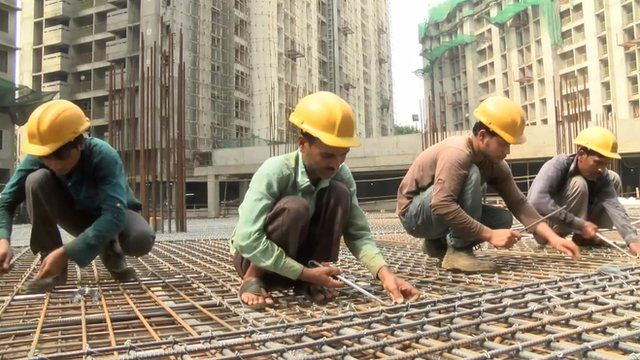NoJacket: (236, 91, 355, 268), (396, 94, 527, 220), (22, 96, 125, 246), (536, 126, 618, 217)
